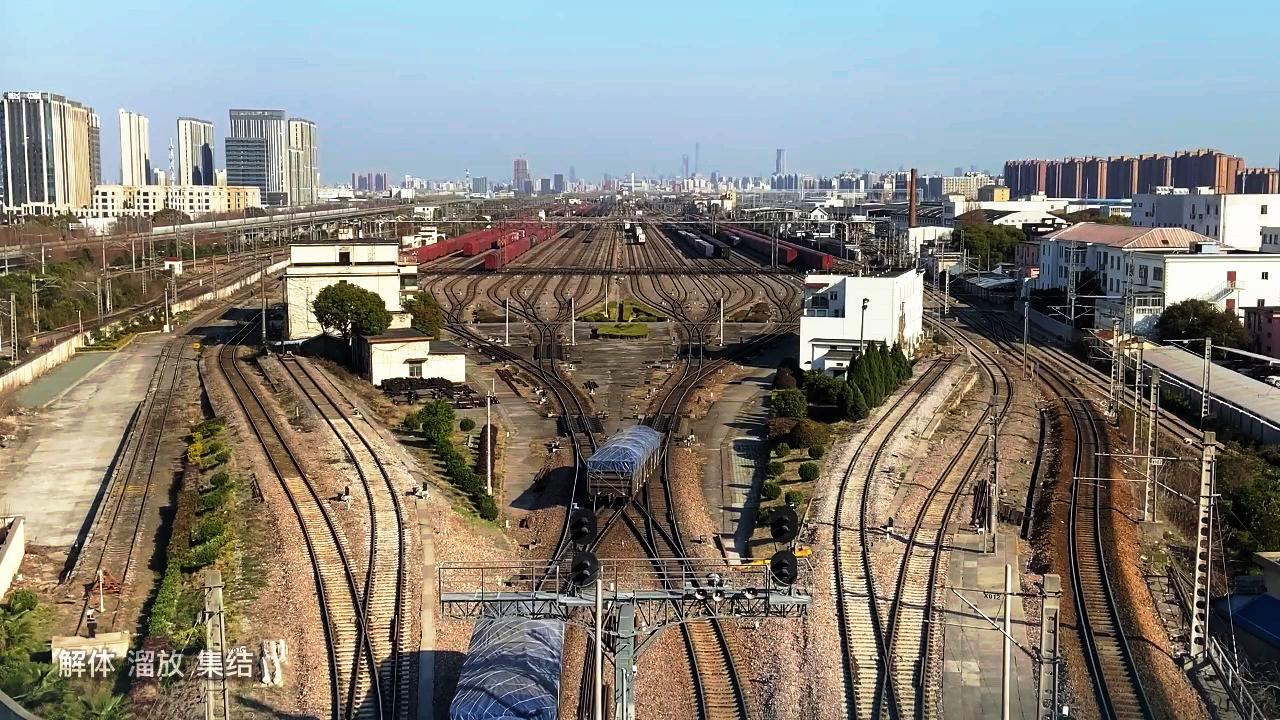road: (483, 357, 752, 718), (248, 401, 406, 720), (833, 436, 981, 720)
